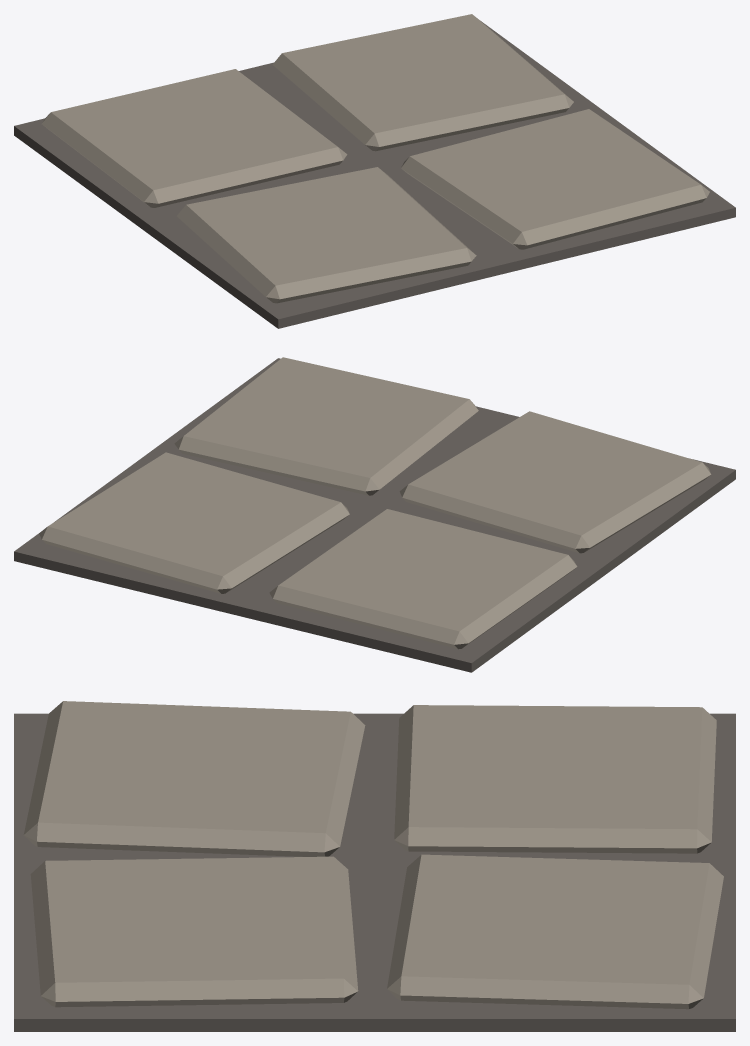
Rendered from PR_Building_Kaldirim.fbx.
The picture shows the model from 3 angles, top to bottom: view 1: azimuth 30°, elevation 25°; view 2: azimuth 150°, elevation 25°; view 3: azimuth 270°, elevation 25°; orthographic projection. The views are drawn at different scales.
Parts seen in each view (by area): view 1: PR_Building_Kaldirim; view 2: PR_Building_Kaldirim; view 3: PR_Building_Kaldirim.
Part boxes in pixels (x1,y1,x2,y2): PR_Building_Kaldirim: (14, 14, 735, 328); PR_Building_Kaldirim: (14, 357, 735, 672); PR_Building_Kaldirim: (14, 701, 735, 1031).
Bounding box in the file's own units: 1 × 0.055 × 1.
